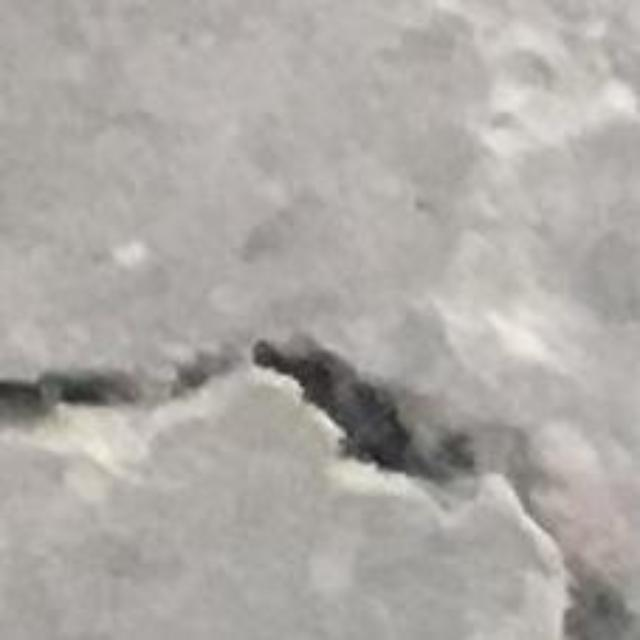crack: (251, 339, 555, 535)
